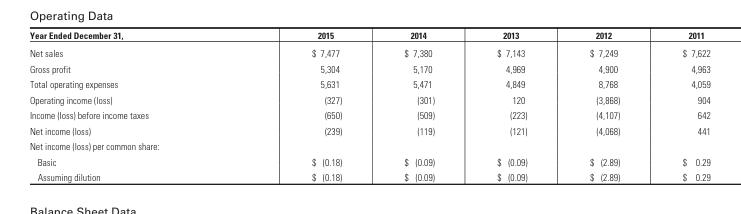table: (28, 29, 709, 182)
table column: (28, 29, 229, 182), (229, 29, 372, 182), (372, 29, 465, 182), (557, 29, 650, 182), (465, 29, 557, 182), (650, 29, 709, 182)
table column header: (28, 29, 709, 43)
table projected row header: (28, 137, 709, 153)
table row: (28, 43, 709, 60), (28, 75, 709, 91), (28, 106, 709, 122), (28, 137, 709, 153), (28, 60, 709, 75), (28, 91, 709, 106), (28, 122, 709, 137), (28, 153, 709, 168), (28, 29, 709, 43), (28, 168, 709, 182)
